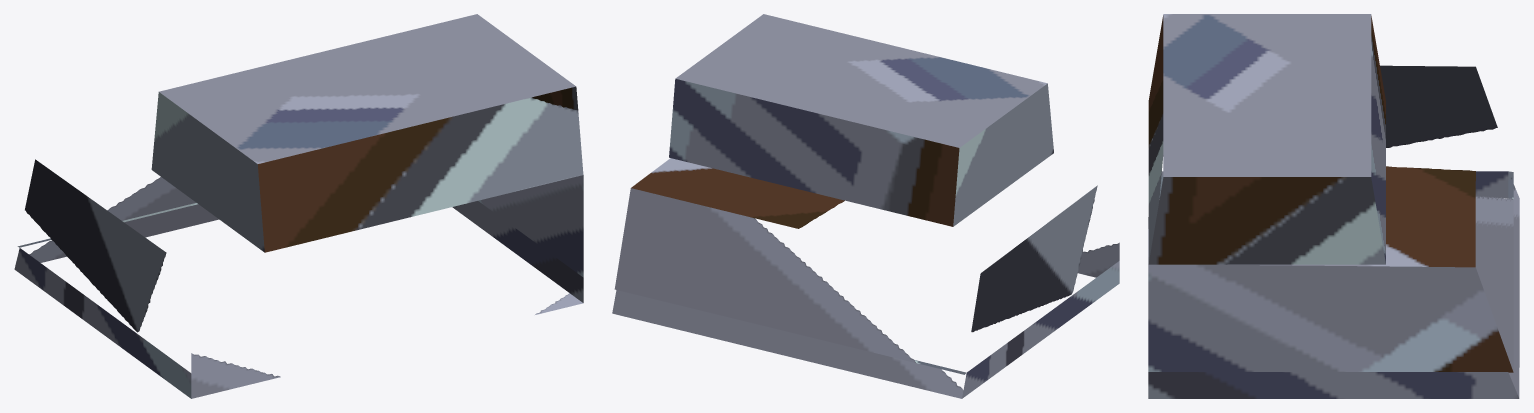
The model's file is ss8_carport_fan_lh.obj.
3 views of the same model, side by side, from view 1: azimuth 30°, elevation 25°; view 2: azimuth 150°, elevation 25°; view 3: azimuth 270°, elevation 25° (orthographic). The views are drawn at different scales.
Visible parts, largest first — view 1: cube_selection_selection_selection_selection_selection_selection; view 2: cube_selection_selection_selection_selection_selection_selection; view 3: cube_selection_selection_selection_selection_selection_selection.
Boxes of the visible parts, x1,y1,x2,y2 form: cube_selection_selection_selection_selection_selection_selection: (14, 14, 583, 398); cube_selection_selection_selection_selection_selection_selection: (612, 14, 1119, 398); cube_selection_selection_selection_selection_selection_selection: (1148, 14, 1519, 398).
Bounding box in the file's own units: 2 × 1.03 × 1.56.
